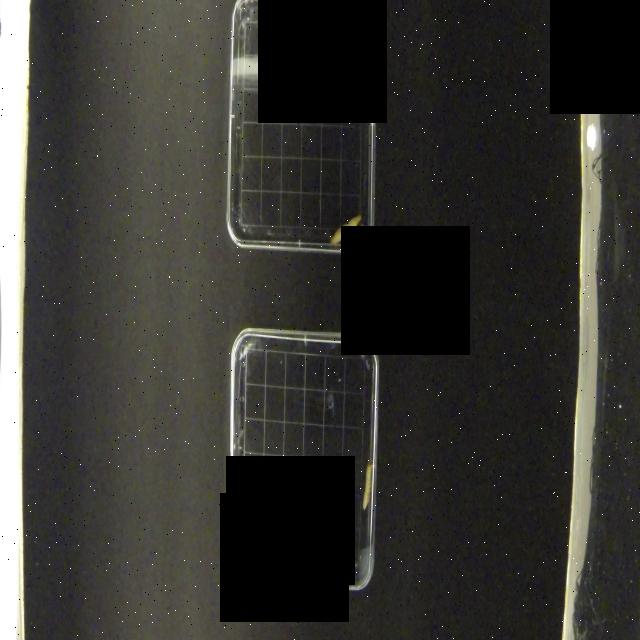larva: (329, 214, 362, 245), (359, 456, 374, 512)
